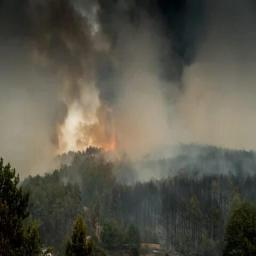Heavy smoke: (0, 0, 256, 170)
